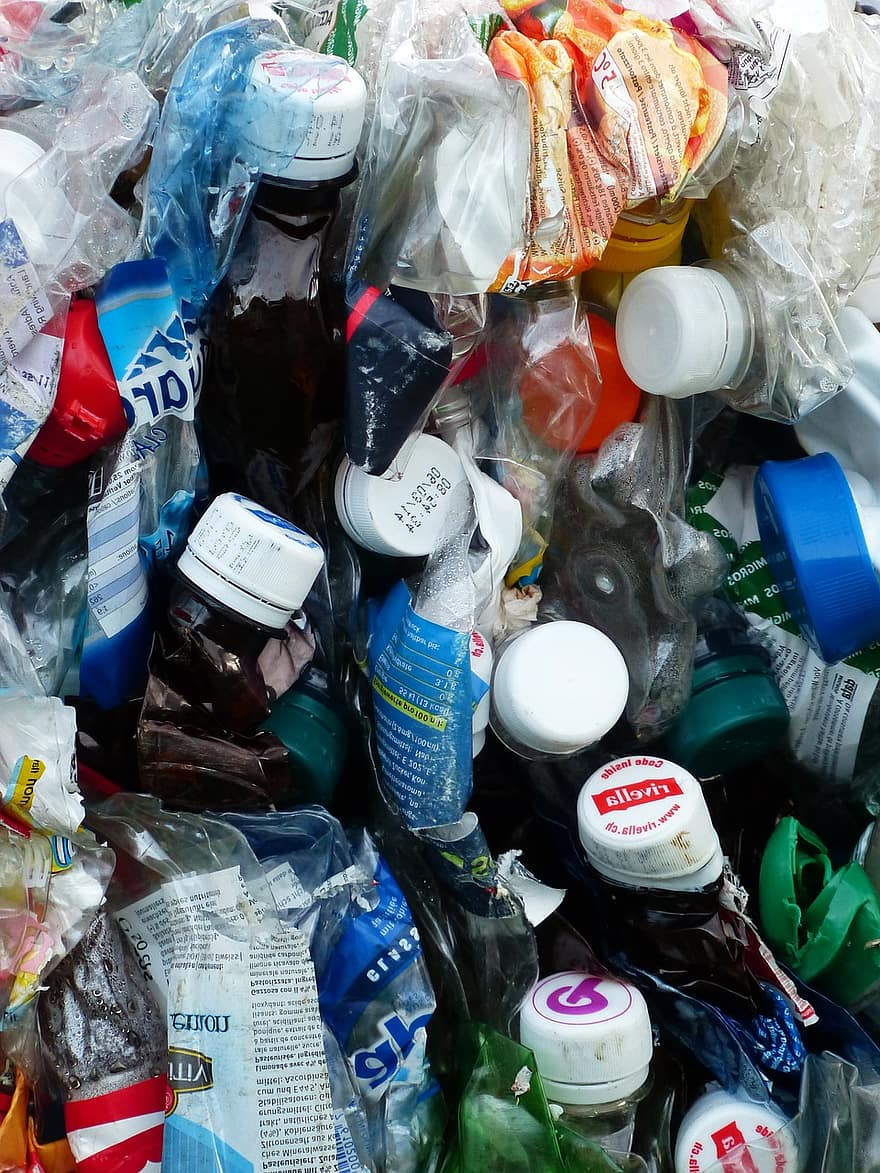plastic_bottle: (495, 59, 880, 660), (118, 4, 421, 699), (475, 544, 865, 1053), (41, 393, 392, 934), (434, 923, 650, 1173)
